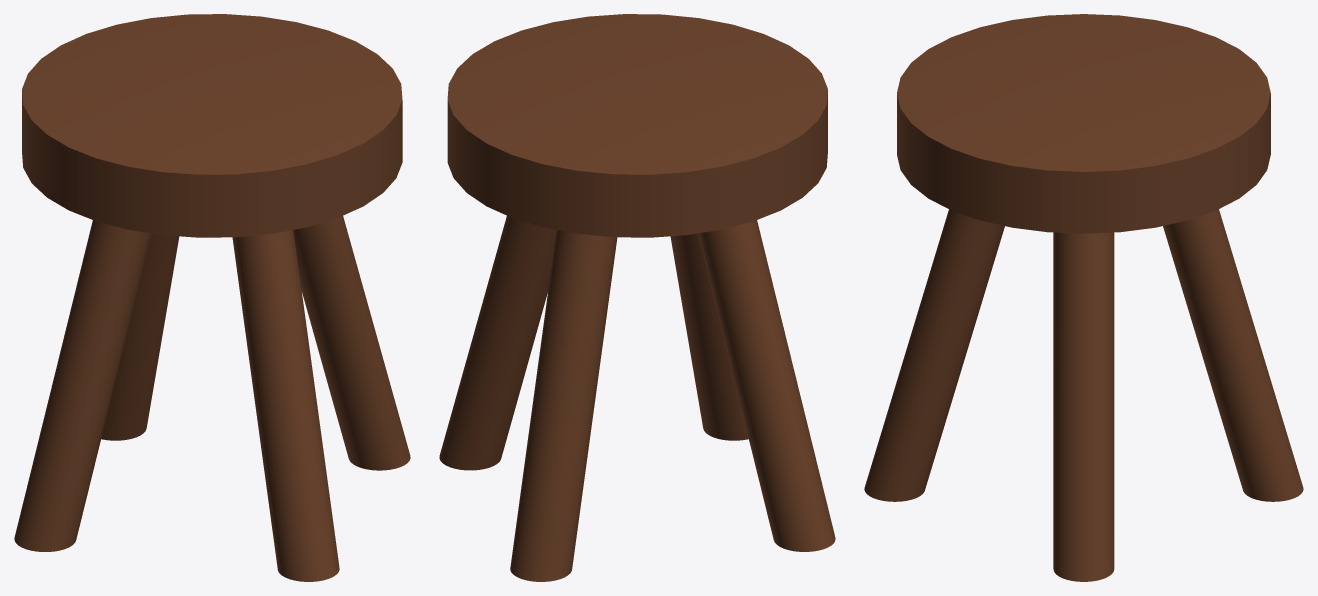
File: Tabouret1_6.fbx
3 renders of one model, left to right at view 1: azimuth 30°, elevation 25°; view 2: azimuth 150°, elevation 25°; view 3: azimuth 270°, elevation 25°, orthographic.
Parts seen in each view (by area): view 1: pCylinder1599, pCylinder1632; view 2: pCylinder1599, pCylinder1632; view 3: pCylinder1599, pCylinder1632.
Boxes of the visible parts, x1,y1,x2,y2 form: pCylinder1599: [22, 14, 402, 237]; pCylinder1632: [14, 216, 410, 581]; pCylinder1599: [447, 14, 827, 237]; pCylinder1632: [439, 216, 835, 581]; pCylinder1599: [897, 14, 1270, 233]; pCylinder1632: [864, 209, 1303, 581].
Size of the model in its own units: 41.39 by 42.19 by 41.38.
